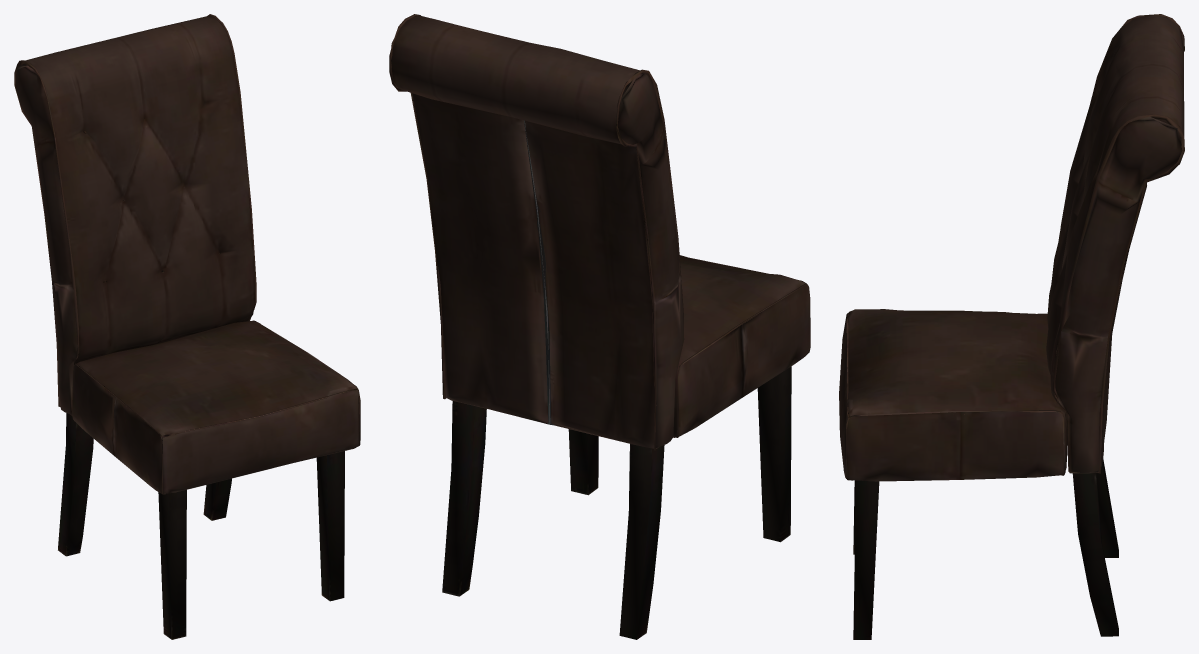
File: chair.glb
The picture shows the model from 3 angles, left to right: view 1: azimuth 30°, elevation 25°; view 2: azimuth 150°, elevation 25°; view 3: azimuth 270°, elevation 25°; orthographic projection. The views are drawn at different scales.
Visible parts, largest first — view 1: dining_chair_02; view 2: dining_chair_02; view 3: dining_chair_02.
Part boxes in pixels (bbox=[...]): dining_chair_02: bbox=[14, 14, 360, 639]; dining_chair_02: bbox=[389, 14, 810, 639]; dining_chair_02: bbox=[839, 14, 1184, 639].
Size of the model in its own units: 0.4315 by 0.9728 by 0.5758.
Materials: 1 (1 with a texture image).
